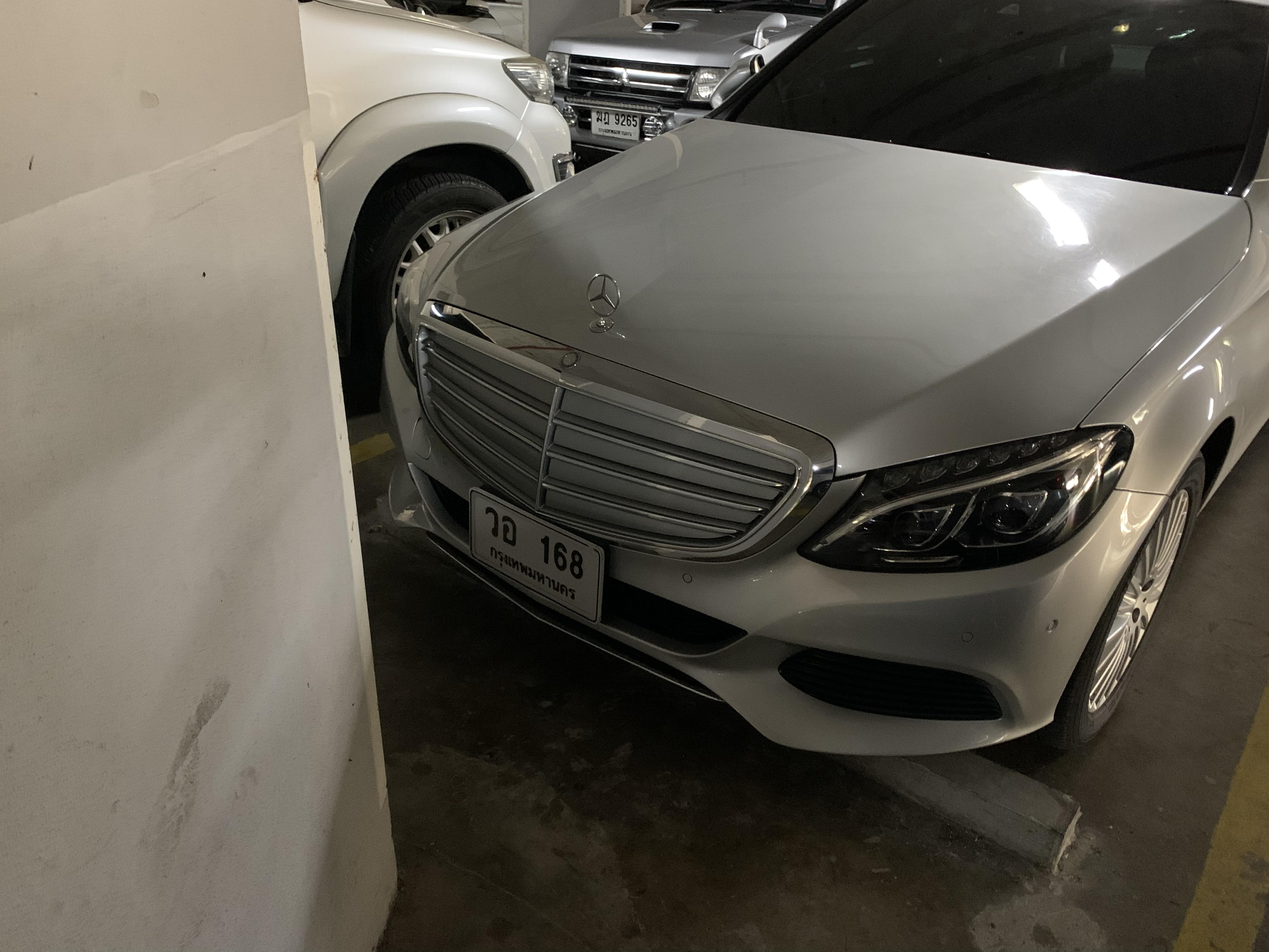license-plate: (466, 480, 605, 629), (586, 102, 643, 144)
